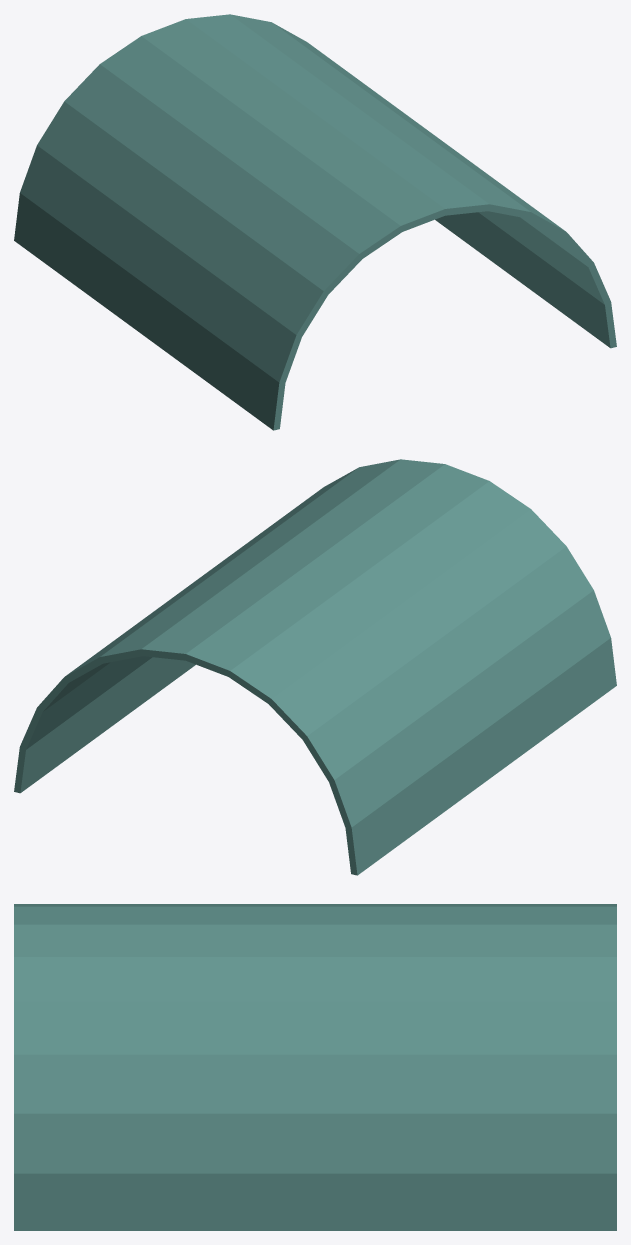
Rendered from biosculpter_pod_glass.obj.
3 renders of one model, top to bottom at view 1: azimuth 30°, elevation 25°; view 2: azimuth 150°, elevation 25°; view 3: azimuth 270°, elevation 25°, orthographic. The views are drawn at different scales.
Visible parts, largest first — view 1: biosculpter_pod_glass; view 2: biosculpter_pod_glass; view 3: biosculpter_pod_glass.
Part boxes in pixels (bbox=[...]): biosculpter_pod_glass: bbox=[14, 14, 616, 430]; biosculpter_pod_glass: bbox=[14, 459, 616, 875]; biosculpter_pod_glass: bbox=[14, 904, 616, 1230].
Size of the model in its own units: 1.07 by 0.535 by 1.4.
